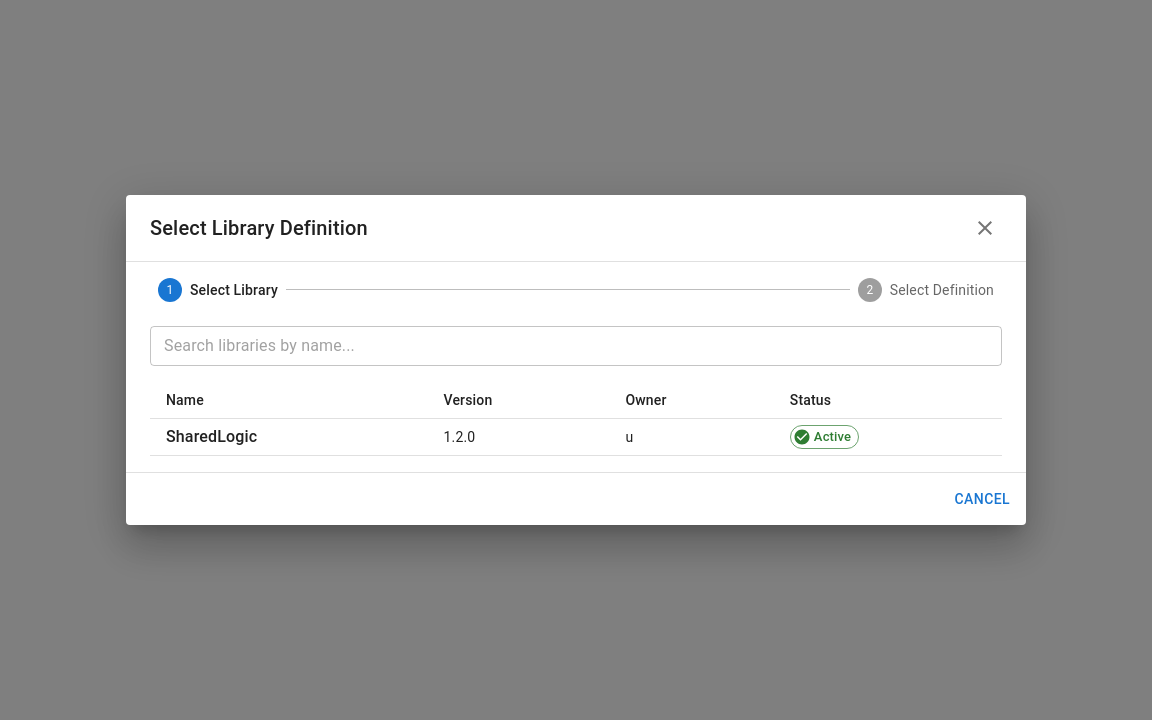
Test: LibraryDefinitionPicker dialog › advances to step 2 when a library row is clicked and auto-fills alias
// Step 1 — click library row
Click the text "SharedLogic" at {"x": 212, "y": 436}, box x1=166 y1=427 x2=257 y2=446
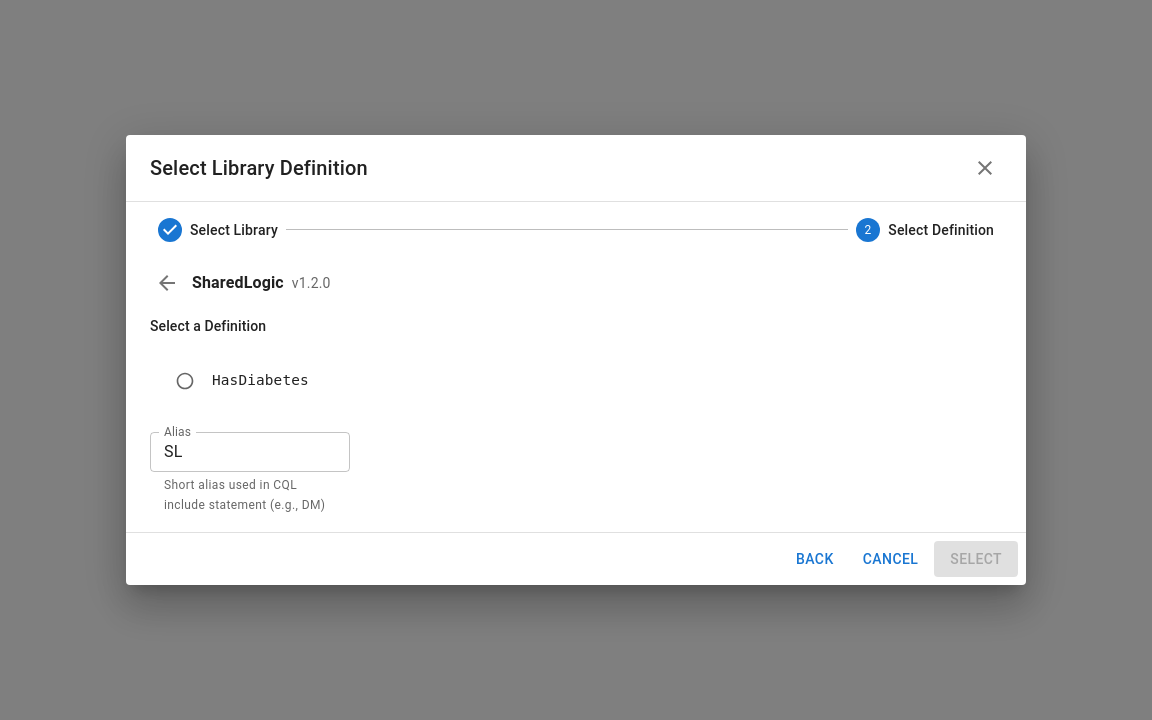
Expected: the text "HasDiabetes" is shown, x1=212 y1=372 x2=309 y2=388
Expected: the field labelled "Alias" holds "SL", x1=150 y1=432 x2=350 y2=472
